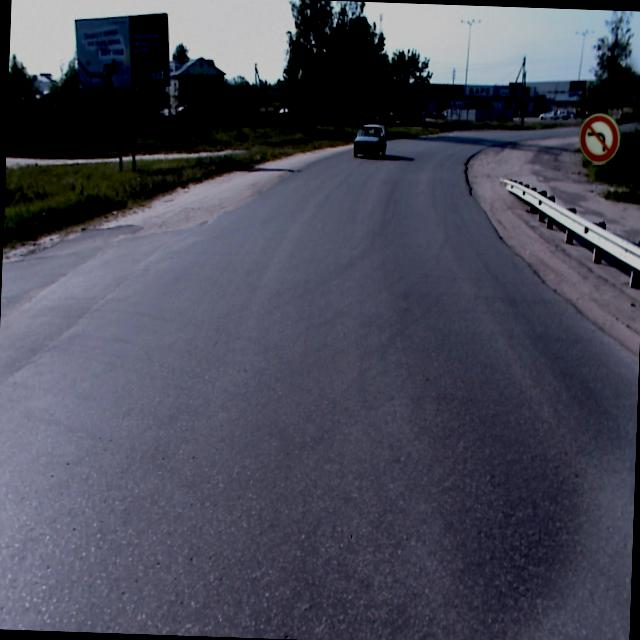road: (0, 125, 638, 640), (617, 122, 638, 129)
